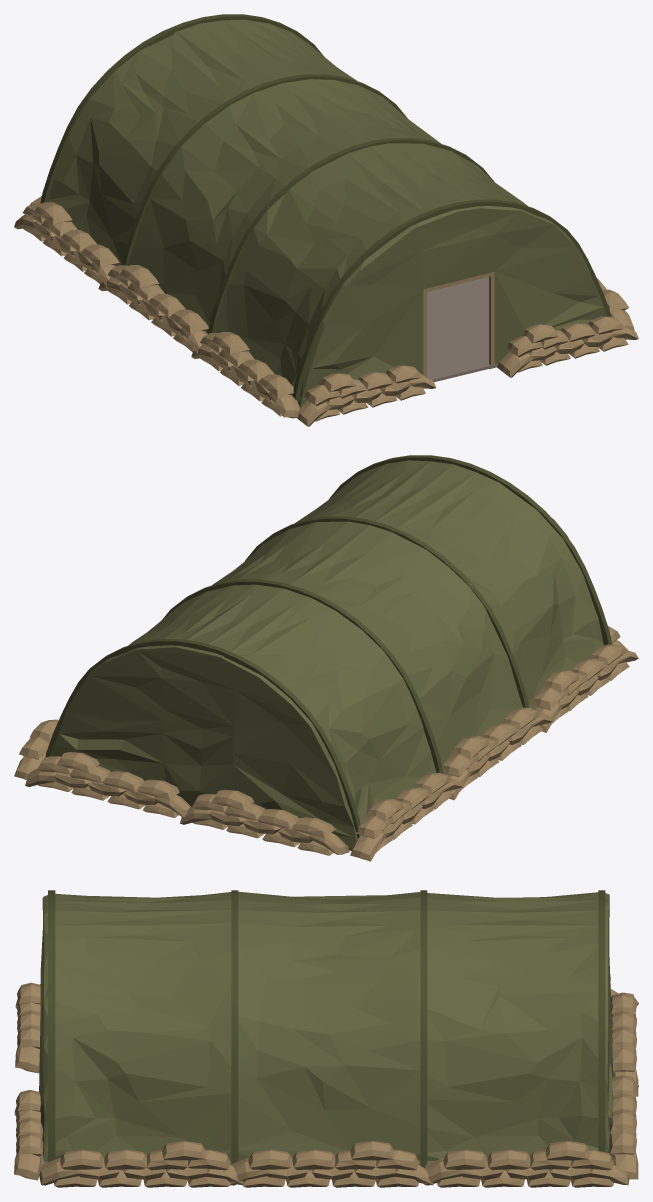
Rendered from model_military_tent_interior_01.fbx.
3 renders of one model, top to bottom at view 1: azimuth 30°, elevation 25°; view 2: azimuth 150°, elevation 25°; view 3: azimuth 270°, elevation 25°, orthographic. The views are drawn at different scales.
Visible parts, largest first — view 1: model_military_tent_interior_01; view 2: model_military_tent_interior_01; view 3: model_military_tent_interior_01.
Part boxes in pixels (x1,y1,x2,y2): model_military_tent_interior_01: (14, 14, 638, 426); model_military_tent_interior_01: (14, 455, 638, 861); model_military_tent_interior_01: (14, 890, 638, 1187).
Bounding box in the file's own units: 839 × 382 × 1162.
1 material, 1 textured.
